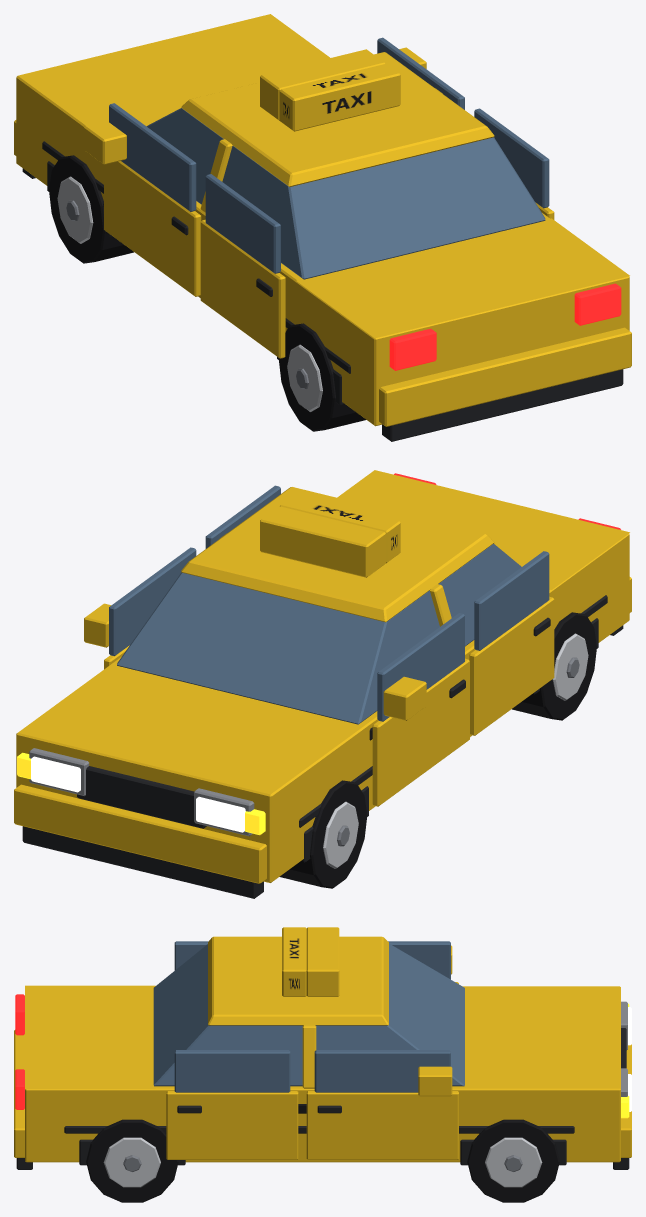
Rendered from car_taxi.glb.
3 renders of one model, top to bottom at view 1: azimuth 30°, elevation 25°; view 2: azimuth 150°, elevation 25°; view 3: azimuth 270°, elevation 25°, orthographic. The views are drawn at different scales.
Parts seen in each view (by area): view 1: car_body, car_door_FL, car_door_RL, car_door_RR, car_door_FR; view 2: car_body, car_door_FL, car_door_RL, car_door_FR, car_door_RR; view 3: car_body, car_door_FR, car_door_RR, car_door_FL, car_door_RL.
Part boxes in pixels (bbox=[...]): car_body: bbox=[14, 14, 631, 441]; car_door_FL: bbox=[84, 103, 201, 296]; car_door_RL: bbox=[200, 174, 285, 358]; car_door_RR: bbox=[474, 108, 554, 219]; car_door_FR: bbox=[377, 37, 464, 109]; car_body: bbox=[14, 470, 631, 898]; car_door_FL: bbox=[372, 613, 469, 806]; car_door_RL: bbox=[469, 551, 554, 735]; car_door_FR: bbox=[84, 547, 196, 669]; car_door_RR: bbox=[205, 485, 280, 548]; car_body: bbox=[14, 927, 631, 1202]; car_door_FR: bbox=[306, 1050, 458, 1159]; car_door_RR: bbox=[166, 1050, 298, 1159]; car_door_FL: bbox=[388, 941, 458, 983]; car_door_RL: bbox=[174, 941, 208, 970].
Bounding box in the file's own units: 2.28 × 1.63 × 4.54.
6 materials, 1 textured.
